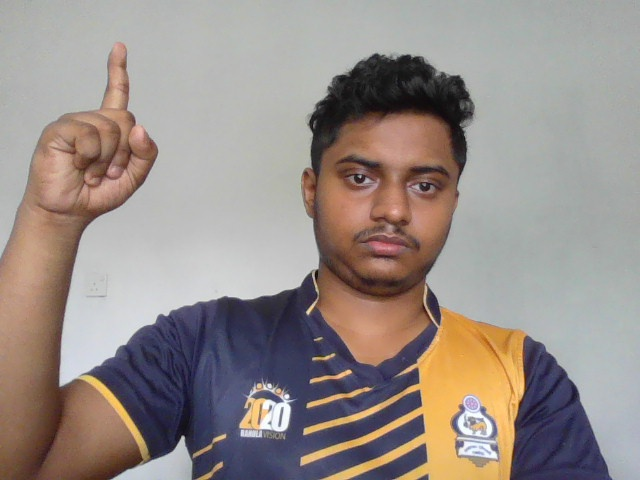Me: (21, 41, 163, 222)
